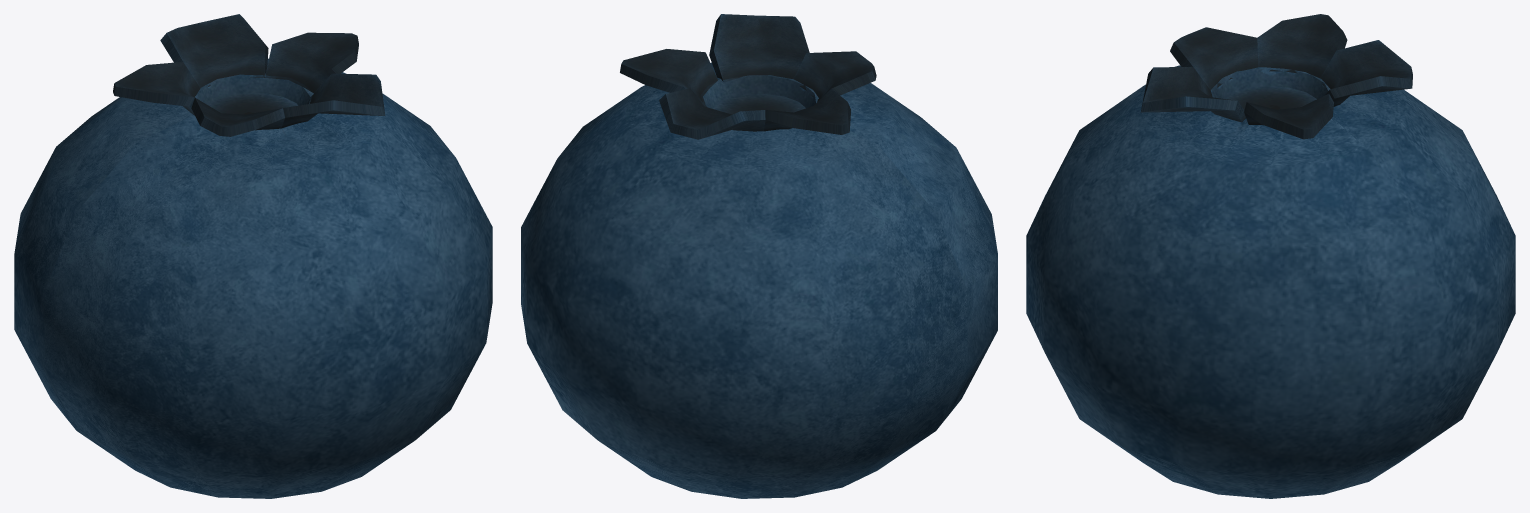
Rendered from blueberry.fbx.
3 renders of one model, left to right at view 1: azimuth 30°, elevation 25°; view 2: azimuth 150°, elevation 25°; view 3: azimuth 270°, elevation 25°, orthographic.
Parts seen in each view (by area): view 1: blueberry; view 2: blueberry; view 3: blueberry.
Part boxes in pixels (left/top/right/bottom): blueberry: left=14, top=14, right=492, bottom=498; blueberry: left=521, top=14, right=997, bottom=498; blueberry: left=1026, top=14, right=1515, bottom=498.
Bounding box in the file's own units: 0.1286 × 0.1169 × 0.1286.
